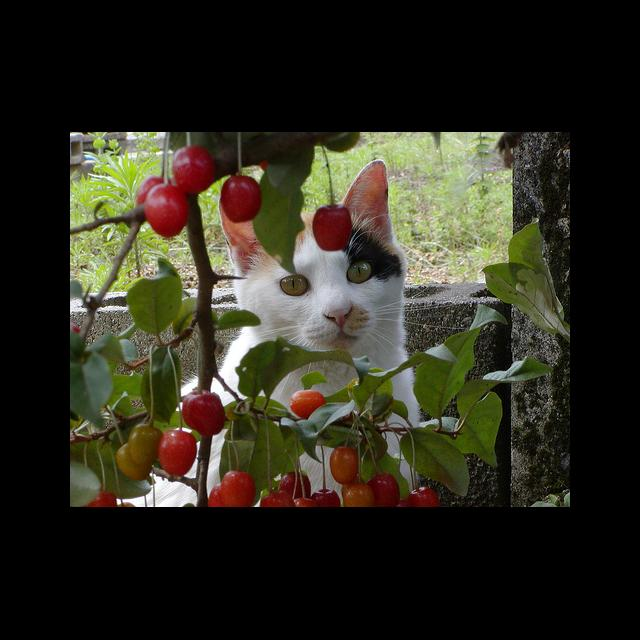animals: (222, 160, 389, 324)
